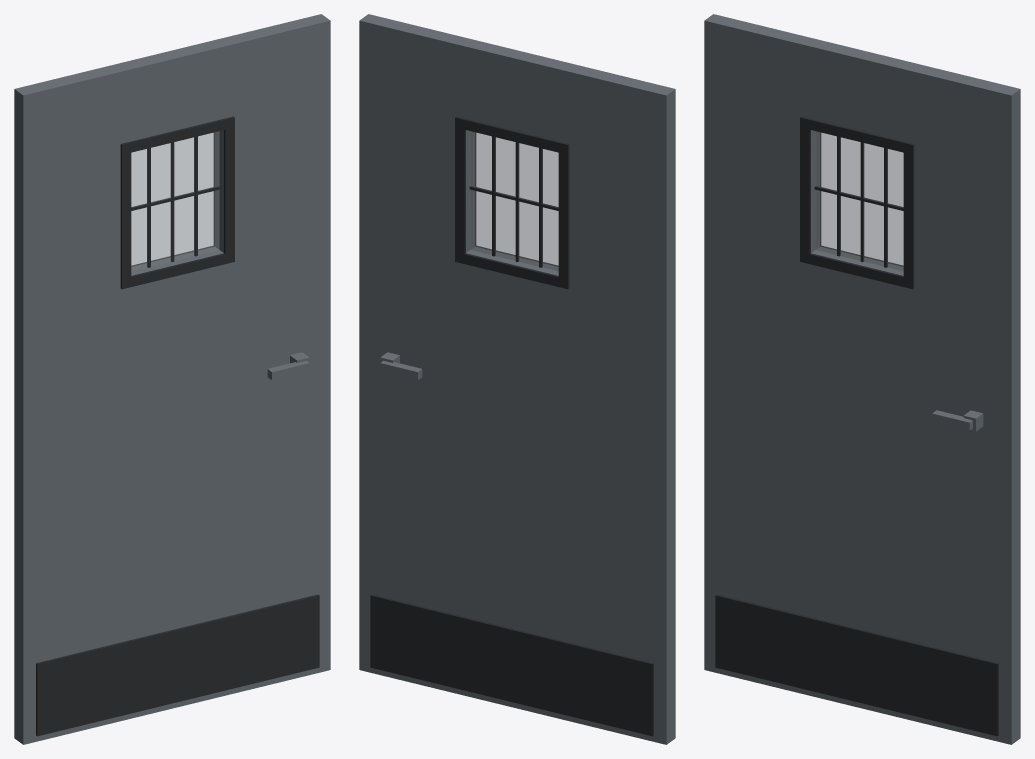
The model's file is door_metal.glb.
3 views of the same model, side by side, from view 1: azimuth 30°, elevation 25°; view 2: azimuth 150°, elevation 25°; view 3: azimuth 330°, elevation 25° (orthographic).
Visible parts, largest first — view 1: door_metal; view 2: door_metal; view 3: door_metal.
Boxes of the visible parts, <box> form: door_metal: <box>14,14,330,744</box>; door_metal: <box>359,14,675,744</box>; door_metal: <box>704,14,1020,744</box>.
Bounding box in the file's own units: 0.98 × 1.98 × 0.165.
Materials: 4 (4 with a texture image).
